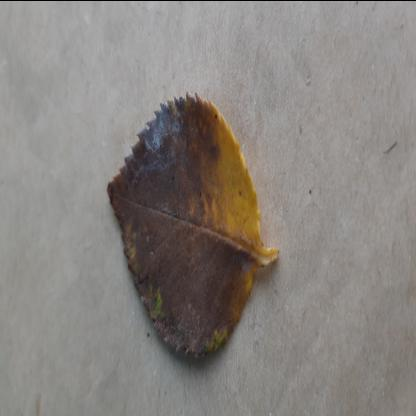black-spot: (107, 79, 264, 364)
